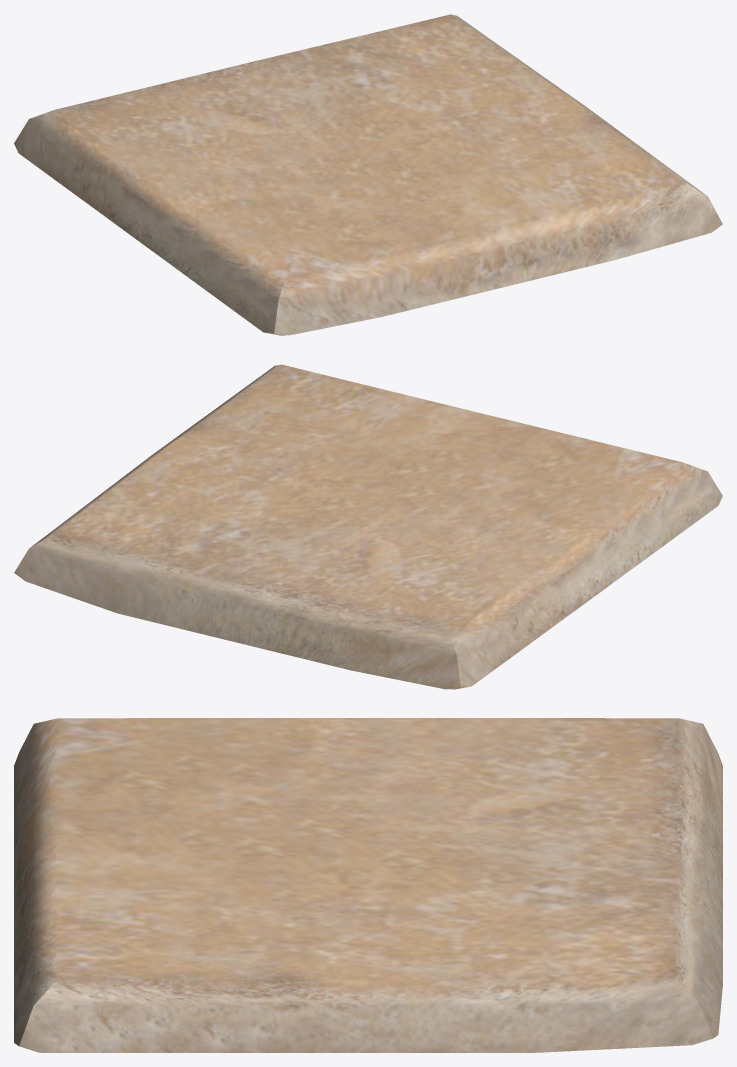
The model's file is side_bottom.obj.
3 views of the same model, one above another, from view 1: azimuth 30°, elevation 25°; view 2: azimuth 150°, elevation 25°; view 3: azimuth 270°, elevation 25° (orthographic). The views are drawn at different scales.
Parts seen in each view (by area): view 1: bottom polySurface8 polySurface5 polySurface3 polySurface1 pCube; view 2: bottom polySurface8 polySurface5 polySurface3 polySurface1 pCube; view 3: bottom polySurface8 polySurface5 polySurface3 polySurface1 pCube.
Boxes of the visible parts, x1,y1,x2,y2 form: bottom polySurface8 polySurface5 polySurface3 polySurface1 pCube: [14, 14, 722, 335]; bottom polySurface8 polySurface5 polySurface3 polySurface1 pCube: [14, 364, 722, 689]; bottom polySurface8 polySurface5 polySurface3 polySurface1 pCube: [14, 718, 722, 1052].
Size of the model in its own units: 4.83 by 0.5368 by 4.85.
